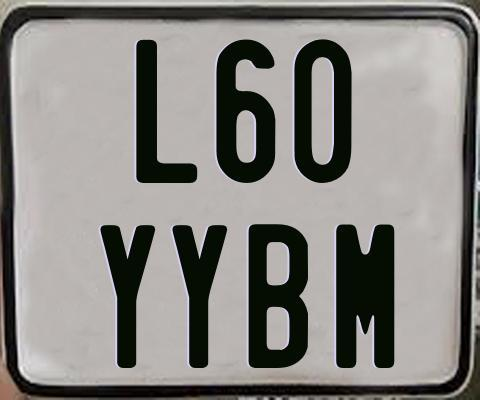0: (291, 39, 352, 188)
6: (214, 37, 276, 182)
B: (247, 224, 306, 373)
L: (135, 38, 199, 184)
M: (333, 223, 396, 368)
Y: (171, 223, 232, 368), (98, 222, 159, 366)
